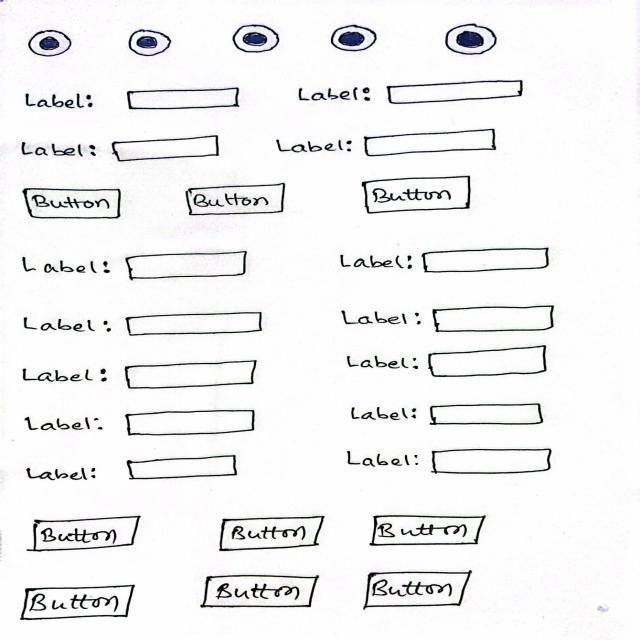radio: (434, 23, 527, 61), (216, 22, 284, 66), (316, 22, 397, 58), (116, 23, 181, 64), (23, 33, 81, 71)
